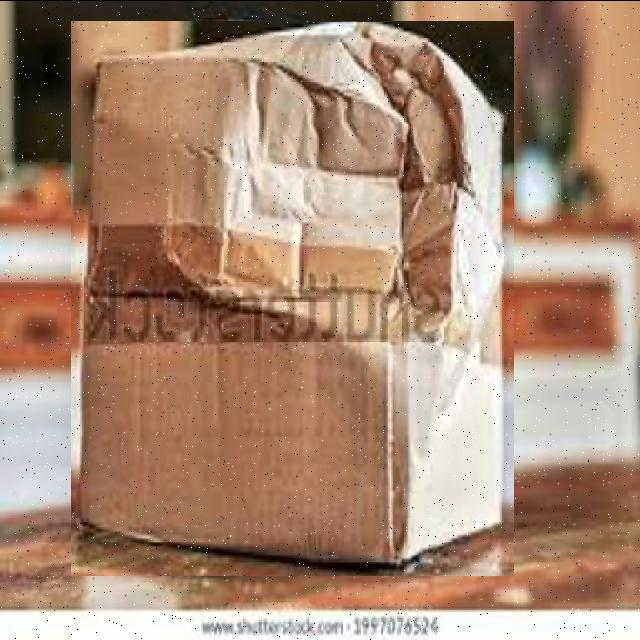defect: (71, 20, 514, 575)
